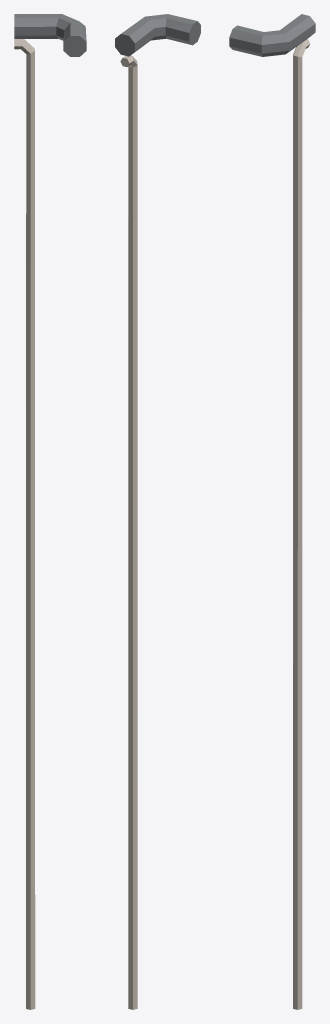
The model's file is SM_Wall_AcPipe_01.fbx.
The picture shows the model from 3 angles, left to right: view 1: azimuth 90°, elevation 25°; view 2: azimuth 150°, elevation 25°; view 3: azimuth 330°, elevation 25°; orthographic projection.
Parts seen in each view (by area): view 1: SM_Wall_AcPipe_01; view 2: SM_Wall_AcPipe_01; view 3: SM_Wall_AcPipe_01.
Part boxes in pixels (bbox=[...]): SM_Wall_AcPipe_01: bbox=[14, 14, 86, 1009]; SM_Wall_AcPipe_01: bbox=[115, 14, 200, 1009]; SM_Wall_AcPipe_01: bbox=[229, 14, 315, 1009].
Size of the model in its own units: 0.1309 by 2.44 by 0.1609.
1 material, 1 textured.
